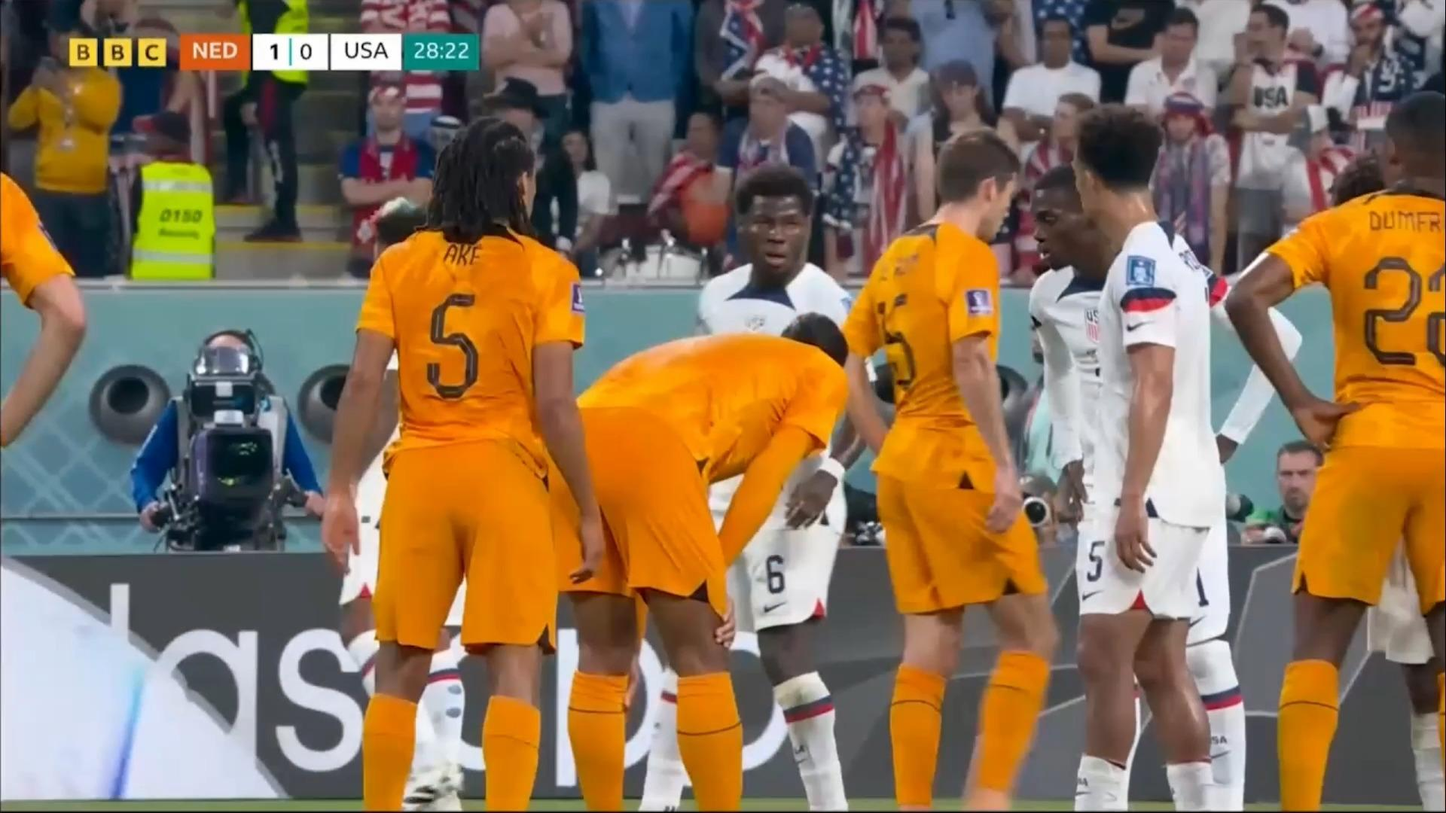Player: (335, 117, 610, 813), (1027, 164, 1301, 811), (1224, 87, 1446, 813), (535, 311, 847, 813), (638, 164, 877, 812), (835, 132, 1062, 813), (1070, 100, 1228, 813), (338, 203, 471, 813), (1330, 145, 1445, 813), (694, 165, 854, 338), (1223, 4, 1324, 271), (817, 71, 935, 291), (0, 167, 86, 464), (337, 71, 437, 279)
